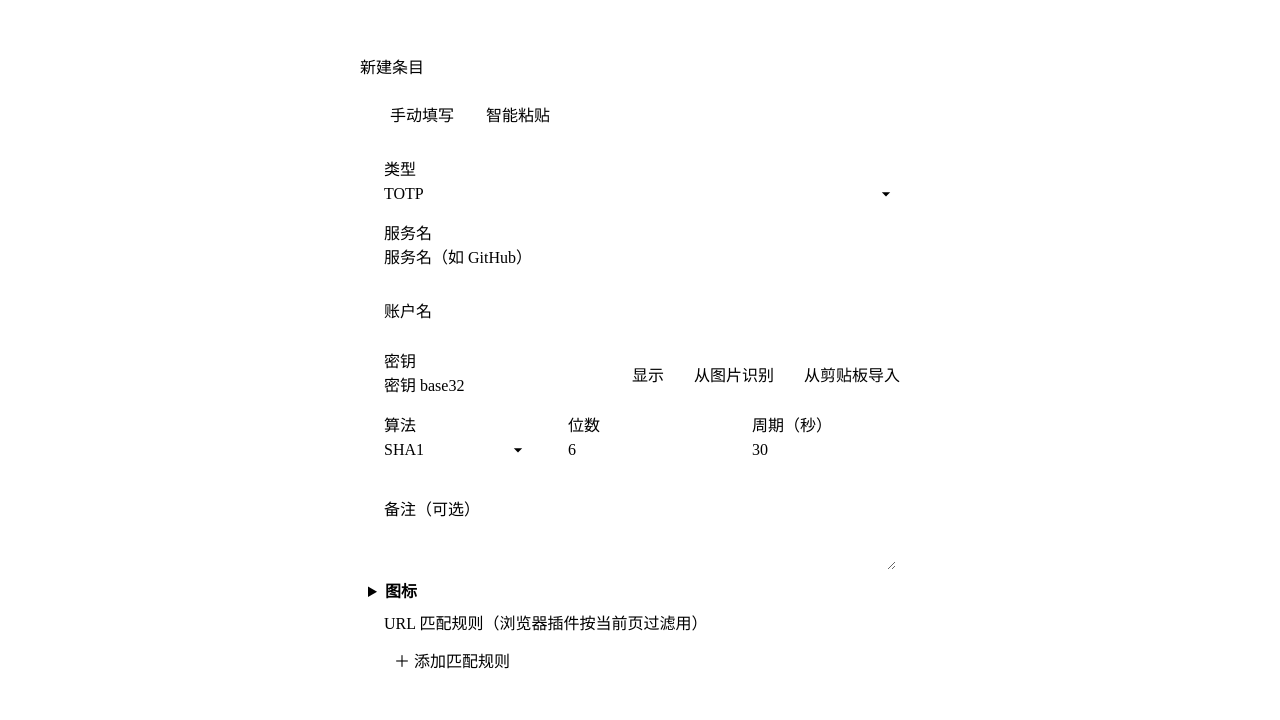
Scenario: EntryFormDialog › 双 Tab：默认「手动填写」渲染 EntryForm；切「智能粘贴」渲染 BatchPastePanel 且 EntryForm 卸载
The image size is (1280, 720).
Check: the form with class "entry-form" is shown, box top-left (360, 146), bottom-right (920, 690)
Click the radio button with class "md-seg__item" showing "智能粘贴". click: (518, 114)
box: top-left (470, 94), bottom-right (566, 134)
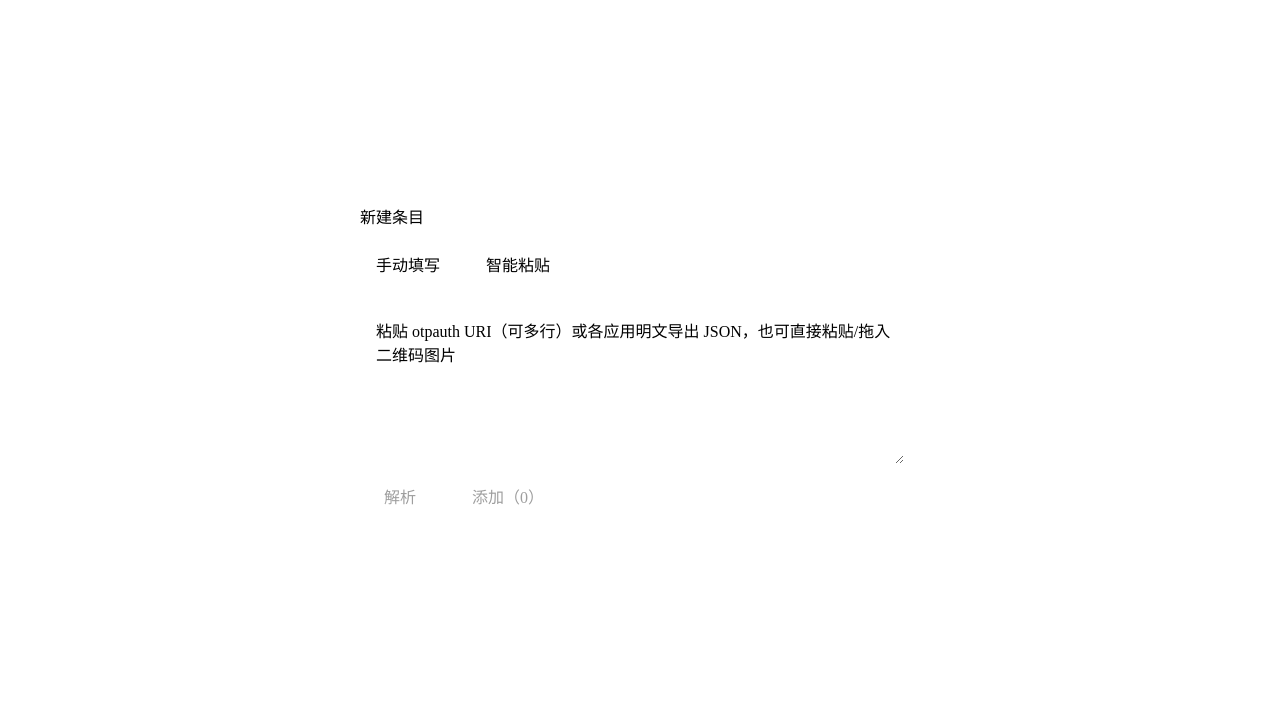
Check: the element with class "batch-paste" is shown, box top-left (360, 296), bottom-right (920, 516)
切回手动：EntryForm 重建（:key 现状保持），粘贴面板卸载即重置
Click the radio button with class "md-seg__item" showing "手动填写". click: (408, 264)
box: top-left (360, 244), bottom-right (456, 284)
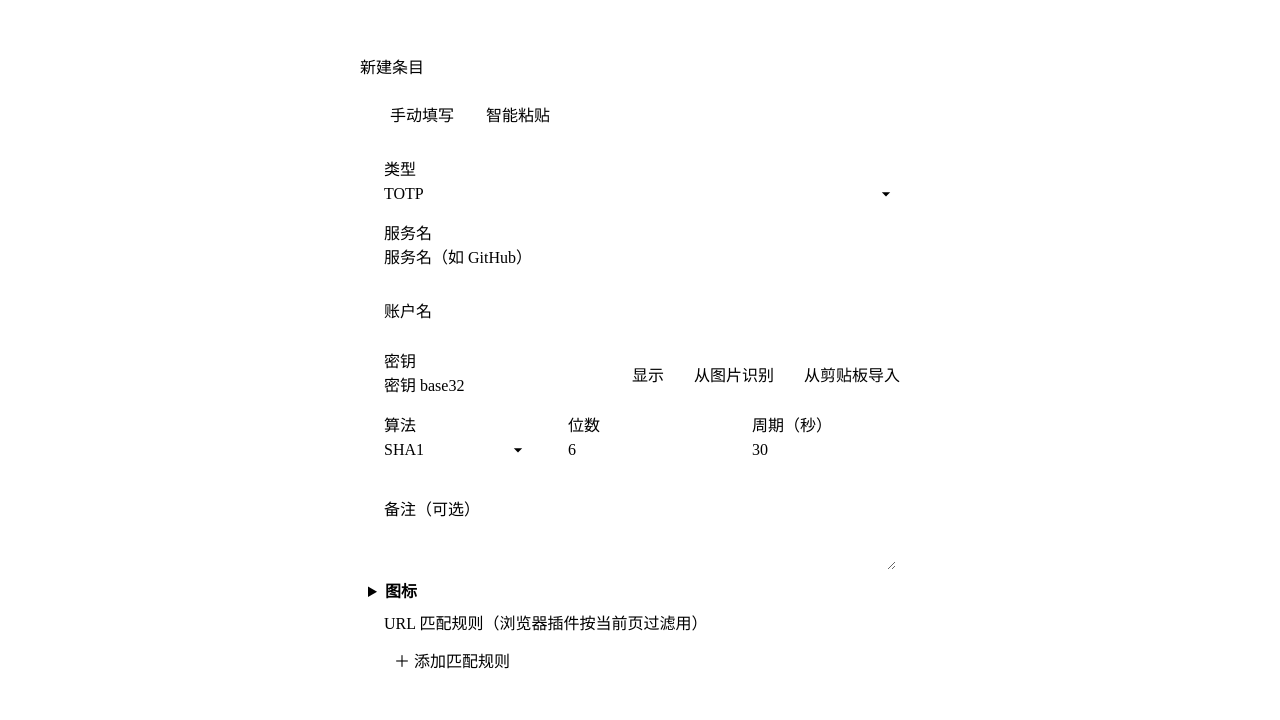
Check: the form with class "entry-form" is shown, box top-left (360, 146), bottom-right (920, 690)
